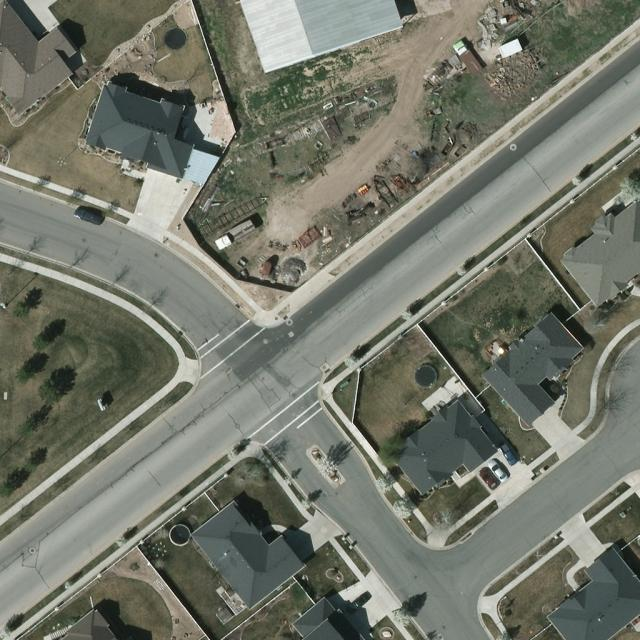vehicle: (213, 221, 256, 251), (452, 40, 484, 78), (72, 207, 104, 227), (487, 458, 510, 484), (344, 593, 370, 616), (478, 468, 498, 492), (498, 442, 518, 466)
